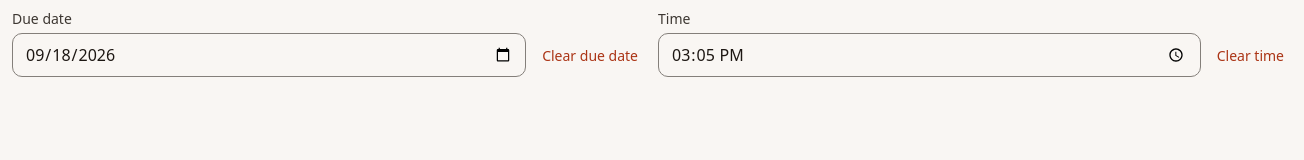
DateField › has buttons to clear the time and the date
The width and height of the screenshot is (1304, 160).
Click the button "Clear time".
click(1250, 55)  # box [1209, 33, 1292, 77]
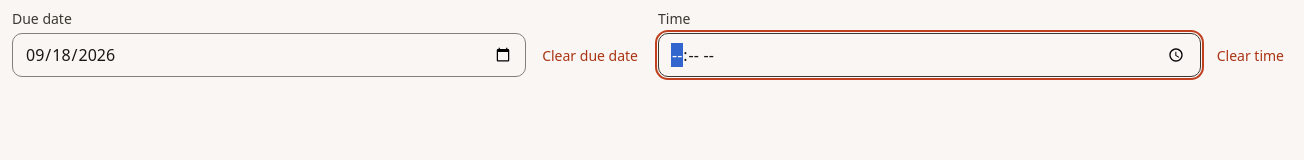
Check: the time field labelled "Time" is empty, box [658, 33, 1201, 77]
Click the button "Clear due date".
click(590, 55)  # box [534, 33, 646, 77]
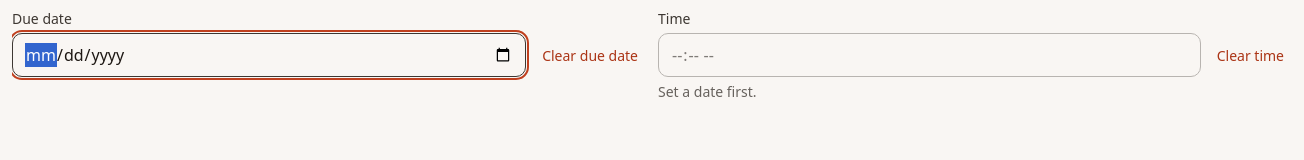
Check: the date field labelled "Due date" is empty, box [12, 33, 526, 77]
